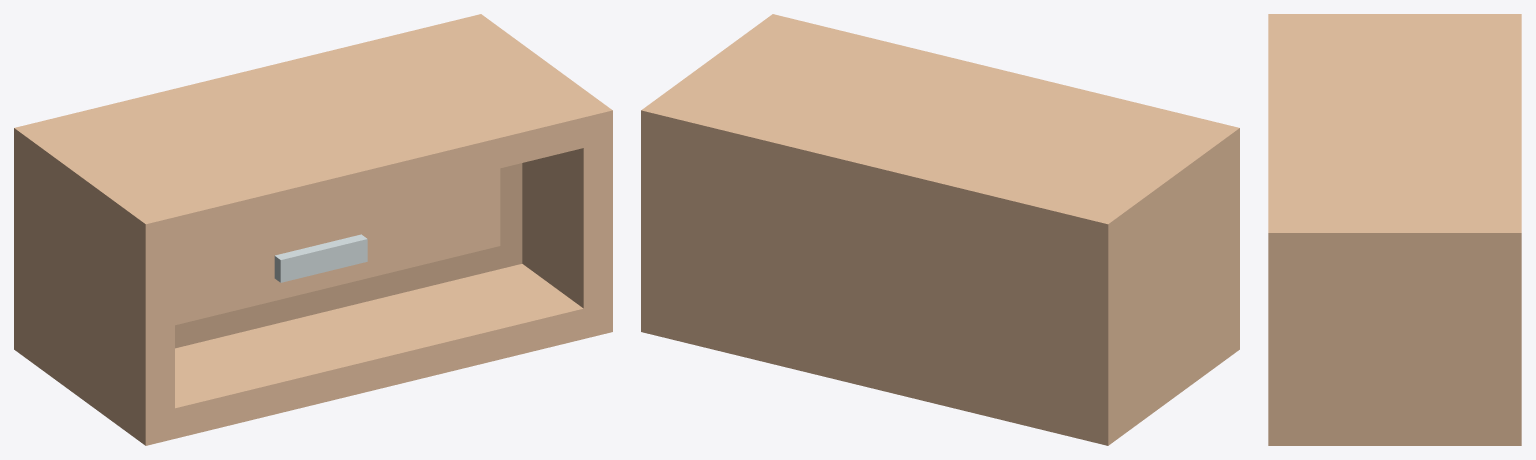
The model's file is kitchenCabinetUpperLow.glb.
3 views of the same model, side by side, from view 1: azimuth 30°, elevation 25°; view 2: azimuth 150°, elevation 25°; view 3: azimuth 270°, elevation 25° (orthographic). The views are drawn at different scales.
Parts seen in each view (by area): view 1: kitchenCabinetUpperLow, kitchenCabinetUpperLow.001; view 2: kitchenCabinetUpperLow; view 3: kitchenCabinetUpperLow.
Boxes of the visible parts, x1=… form: kitchenCabinetUpperLow: x1=14, y1=14, x2=612, y2=445; kitchenCabinetUpperLow.001: x1=175, y1=163, x2=522, y2=348; kitchenCabinetUpperLow: x1=641, y1=14, x2=1239, y2=445; kitchenCabinetUpperLow: x1=1268, y1=14, x2=1521, y2=445.
Size of the model in its own units: 1.25 by 0.5655 by 0.609.
